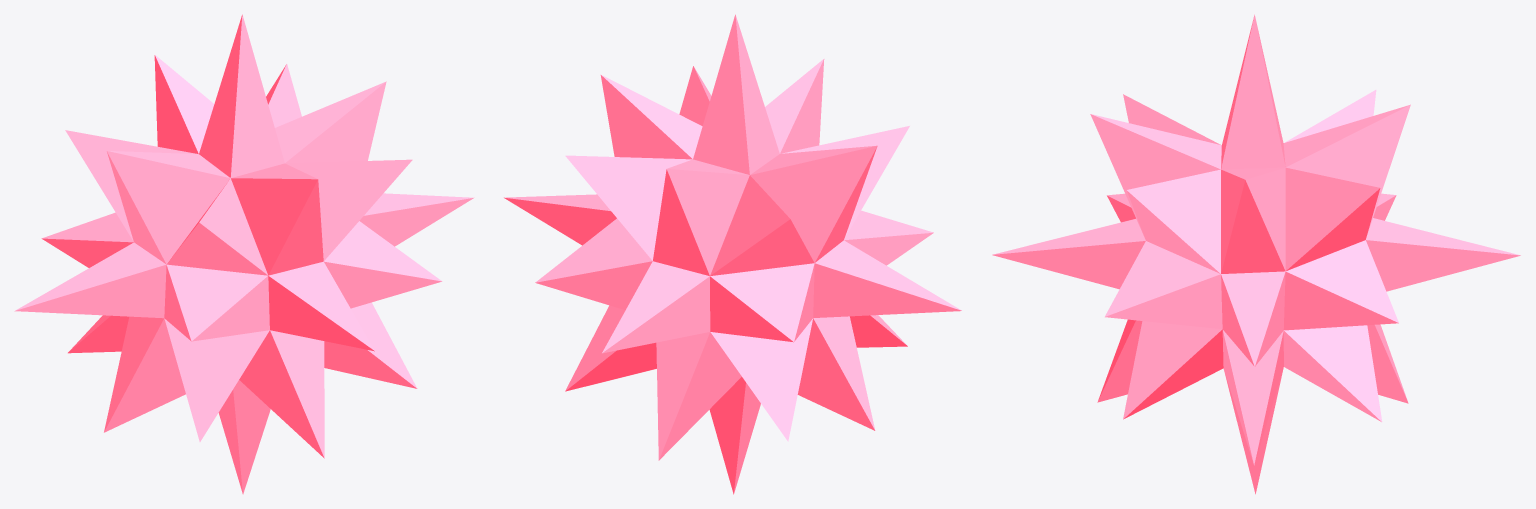
File: Star4.glb
3 views of the same model, side by side, from view 1: azimuth 30°, elevation 25°; view 2: azimuth 150°, elevation 25°; view 3: azimuth 270°, elevation 25° (orthographic).
Visible parts, largest first — view 1: Moravian_Star.002; view 2: Moravian_Star.002; view 3: Moravian_Star.002.
Boxes of the visible parts, box(x1,y1,x2,y2) form: Moravian_Star.002: box(14, 14, 474, 494); Moravian_Star.002: box(504, 14, 961, 494); Moravian_Star.002: box(992, 14, 1520, 494).
Size of the model in its own units: 1 by 1 by 1.
